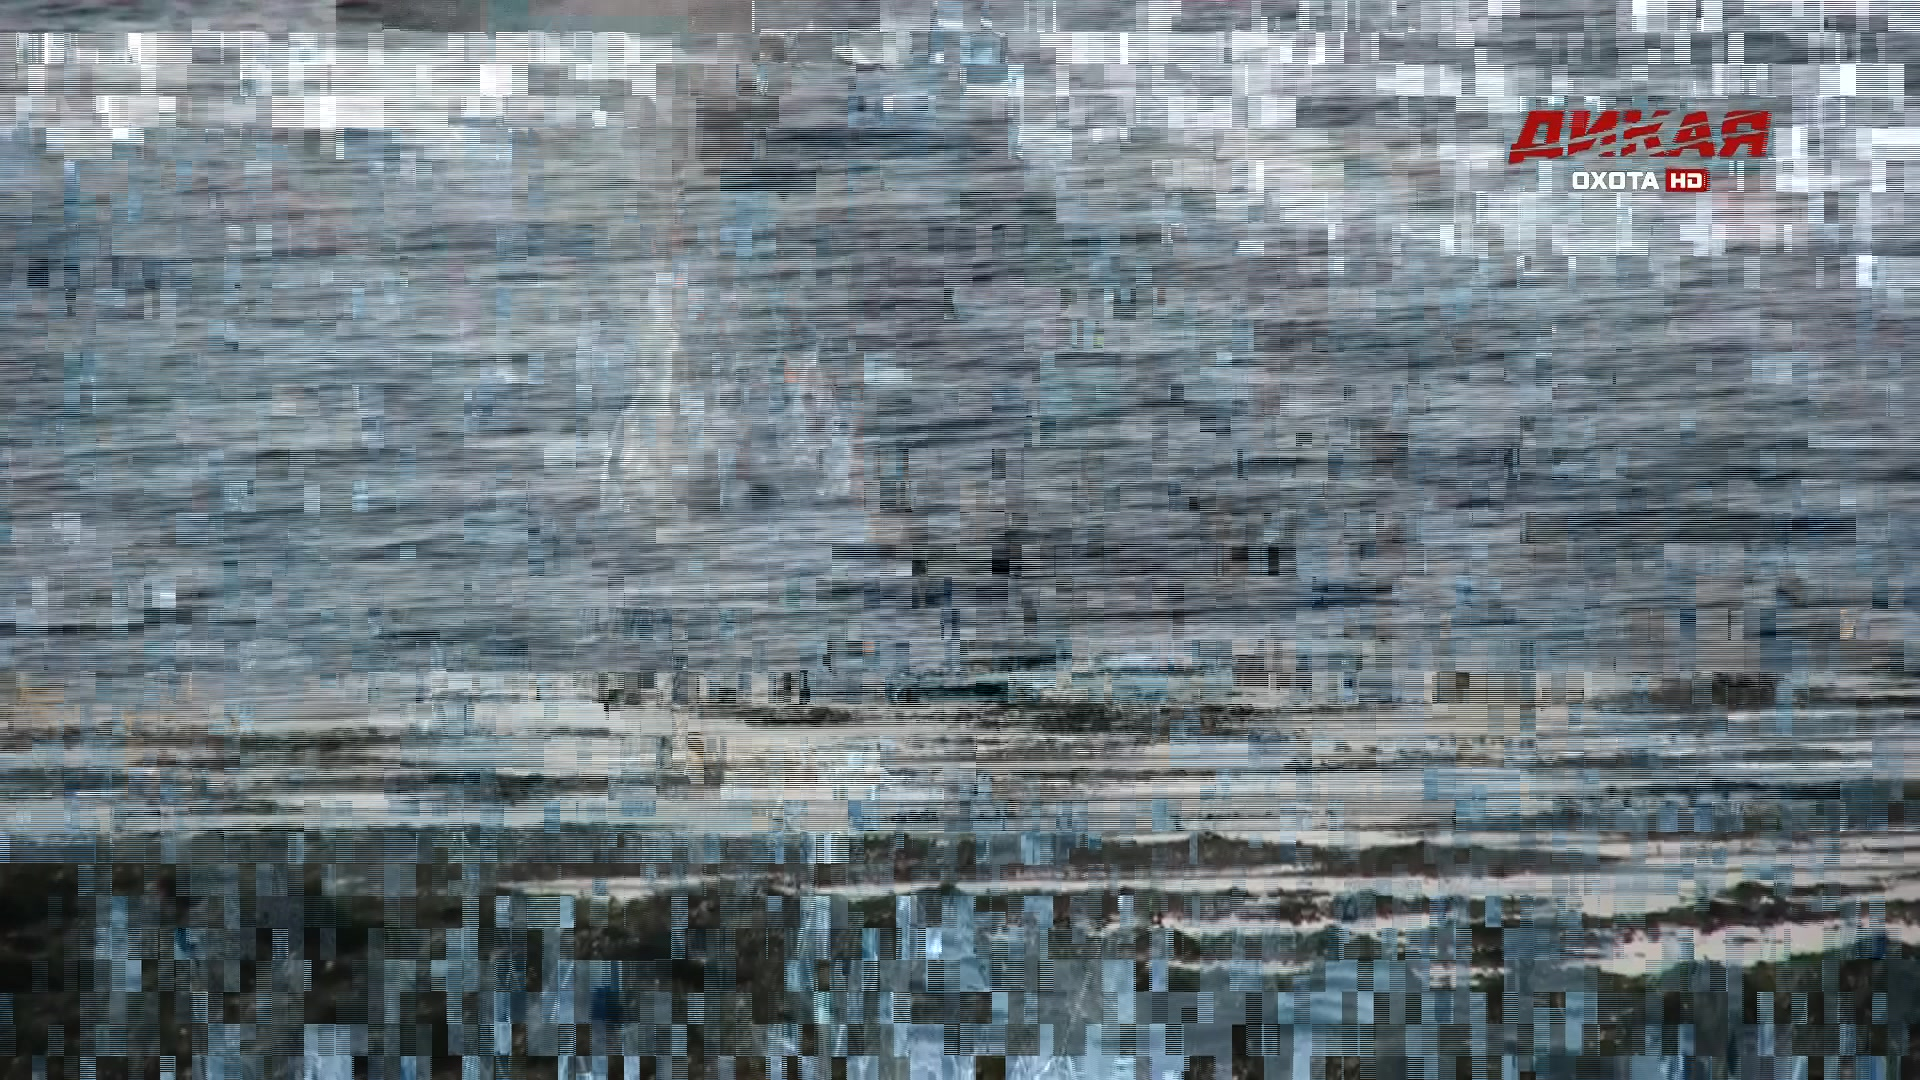Dikaya_Ohota_HD: (1501, 105, 1778, 194)
